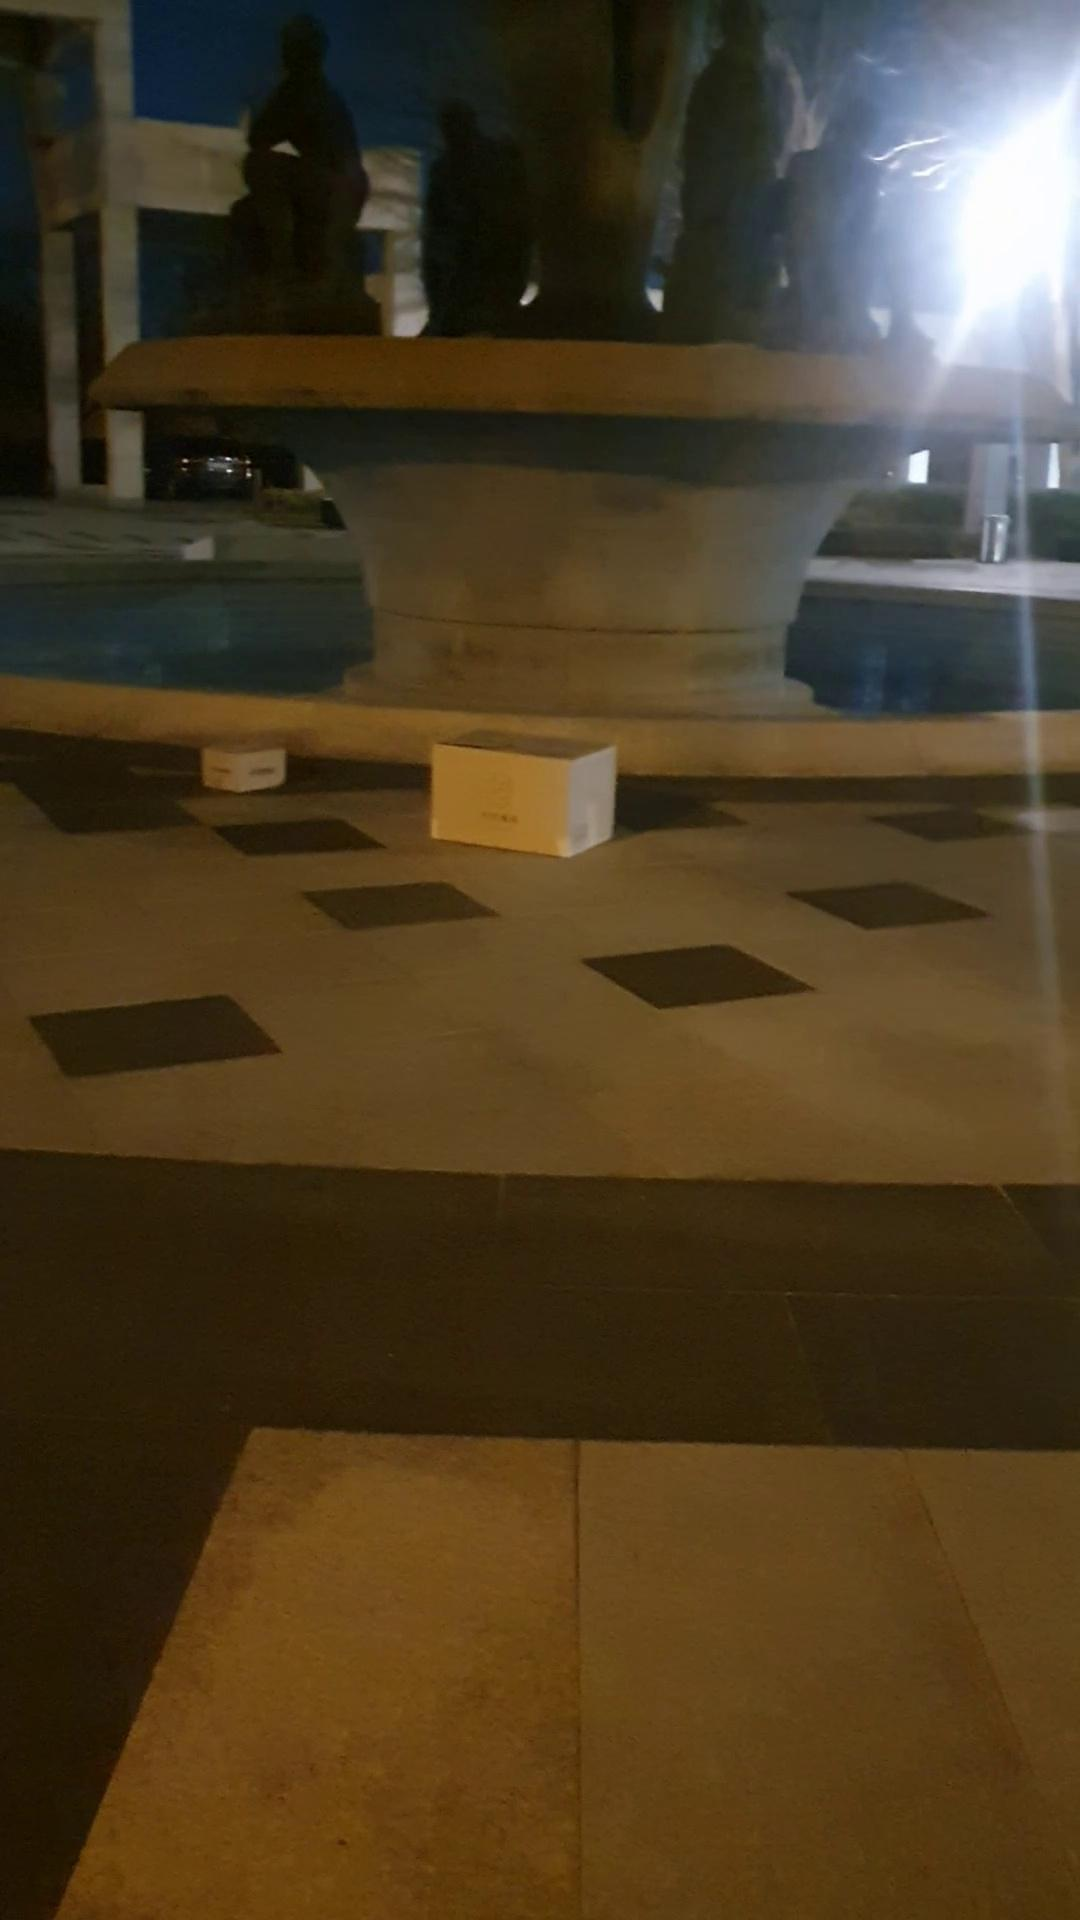Box: (407, 720, 625, 865), (191, 733, 298, 810)
